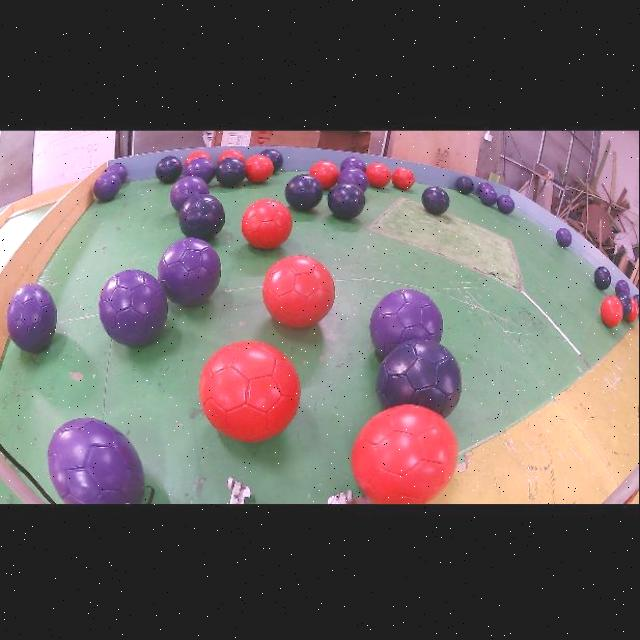B: (376, 339, 463, 417), (179, 194, 225, 240), (328, 182, 366, 219), (285, 174, 323, 210), (216, 156, 246, 186), (155, 155, 183, 183), (423, 186, 450, 214), (261, 148, 284, 171), (594, 266, 612, 290), (618, 292, 633, 319), (457, 175, 475, 195), (635, 294, 640, 314)
P: (48, 417, 145, 504), (99, 269, 168, 345), (371, 288, 444, 357), (158, 238, 222, 305), (7, 283, 57, 352), (171, 175, 210, 210), (93, 170, 122, 201), (184, 157, 216, 183), (337, 166, 370, 191), (106, 162, 128, 183), (341, 156, 367, 171), (480, 184, 498, 205), (557, 227, 574, 247), (498, 194, 515, 213), (616, 279, 631, 296), (477, 182, 494, 194)
R: (351, 404, 459, 504), (199, 340, 301, 442), (263, 255, 336, 327), (242, 199, 293, 248), (245, 155, 274, 183), (310, 160, 340, 187), (601, 295, 624, 327), (366, 161, 392, 187), (392, 166, 415, 188), (218, 148, 245, 162), (185, 151, 211, 165), (627, 297, 640, 322)
